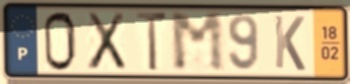0: (42, 9, 79, 73)
9: (226, 13, 261, 72)
K: (272, 13, 308, 73)
M: (168, 11, 228, 74)
T: (134, 10, 170, 74)
X: (84, 10, 128, 73)
